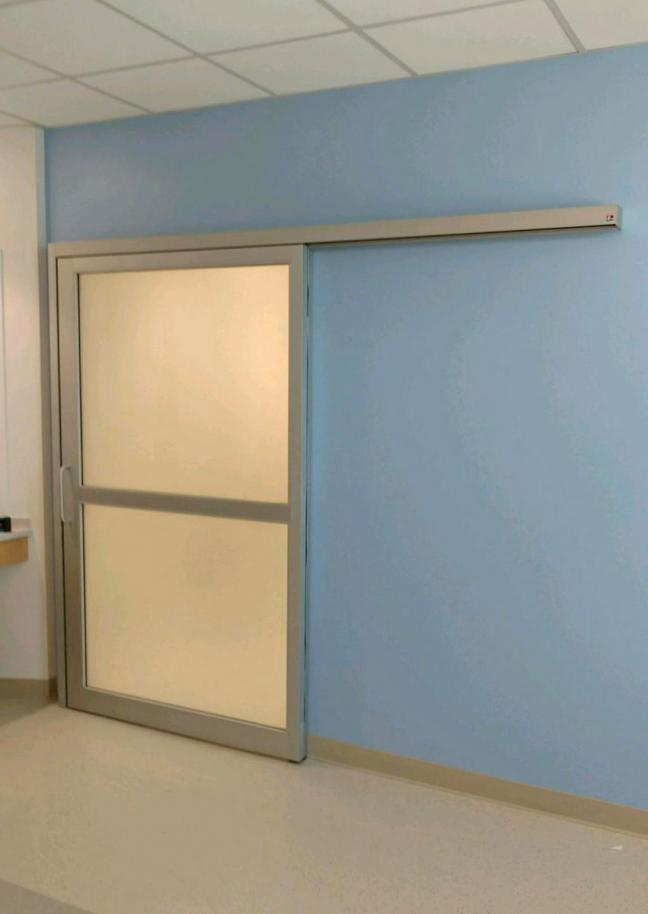door_handle: (52, 458, 77, 532)
